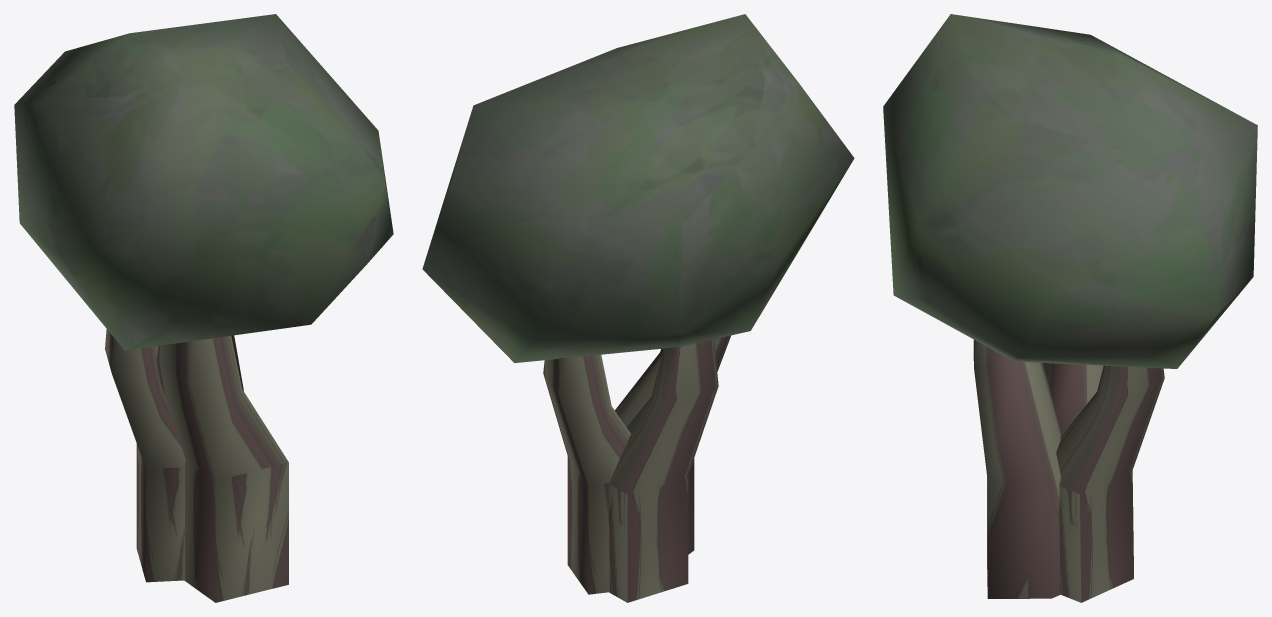
Rendered from Bush01.fbx.
3 views of the same model, side by side, from view 1: azimuth 30°, elevation 25°; view 2: azimuth 150°, elevation 25°; view 3: azimuth 270°, elevation 25° (orthographic). The views are drawn at different scales.
Parts seen in each view (by area): view 1: Bush01; view 2: Bush01; view 3: Bush01.
Part boxes in pixels (x1=…): Bush01: x1=14, y1=14, x2=393, y2=602; Bush01: x1=422, y1=14, x2=854, y2=602; Bush01: x1=883, y1=14, x2=1257, y2=602.
Bounding box in the file's own units: 0.5946 × 0.9464 × 0.6018.
Materials: 2 (2 with a texture image).
